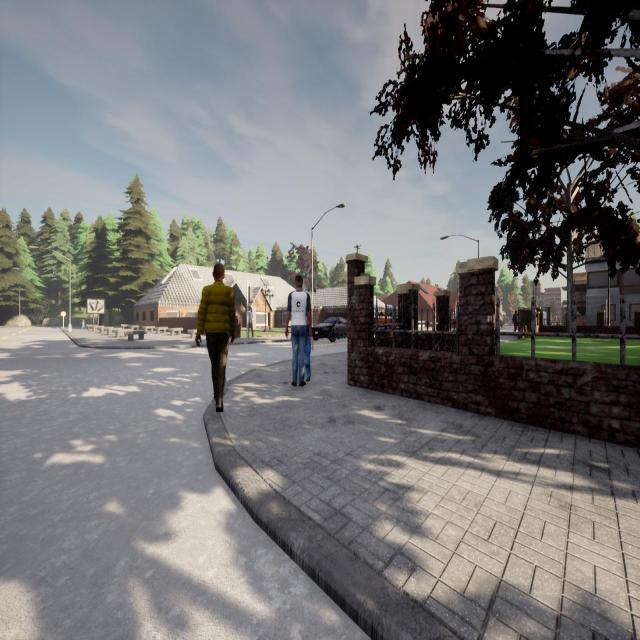Pedestrian: (195, 264, 235, 412), (284, 274, 314, 387), (248, 306, 254, 338), (512, 309, 518, 332), (81, 318, 86, 330)
Traffic_Signs: (60, 311, 66, 317)
Vehicle: (312, 317, 347, 343)
